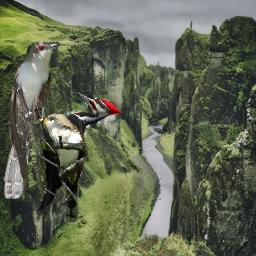Cuckoo: (2, 39, 62, 199), (35, 113, 88, 222)
Woodpecker: (32, 92, 122, 220)
